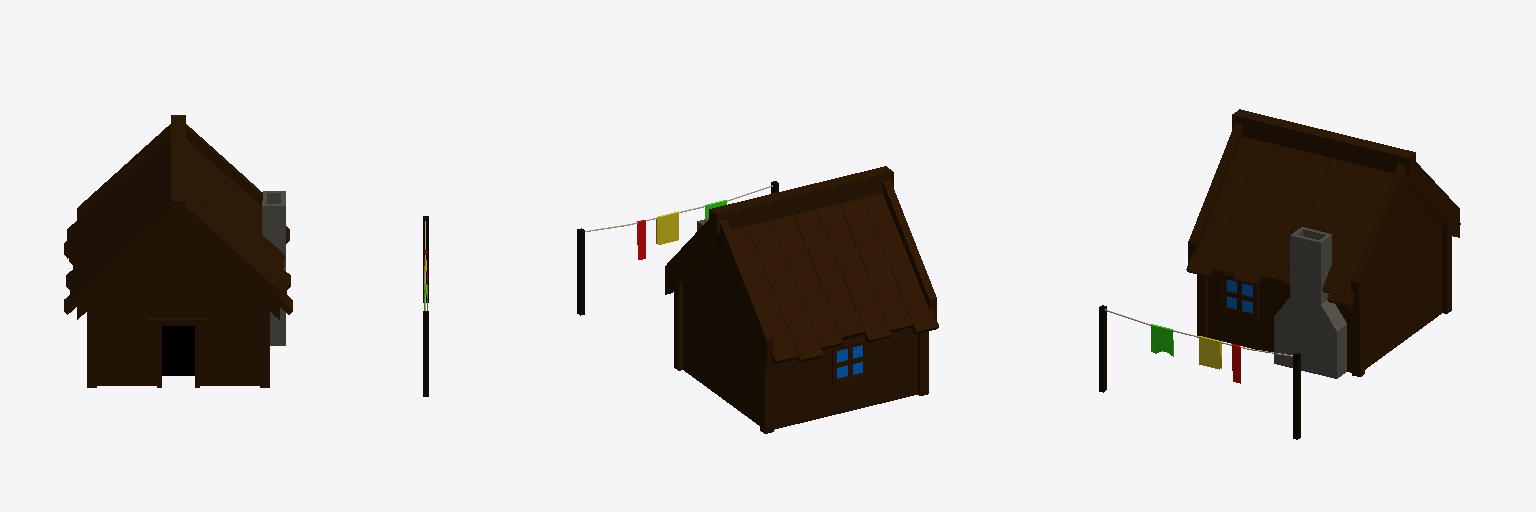
Rendered from house.obj.
3 views of the same model, side by side, from view 1: azimuth 30°, elevation 25°; view 2: azimuth 150°, elevation 25°; view 3: azimuth 270°, elevation 25° (orthographic).
Visible parts, largest first — view 1: casa, varal; view 2: casa, varal; view 3: casa, varal.
Part boxes in pixels (x1,y1,x2,y2): casa: (64,115,292,387); varal: (423,216,428,396); casa: (665,166,938,433); varal: (577,181,778,315); casa: (1186,109,1460,378); varal: (1099,305,1300,439).
Bounding box in the file's own units: 9.06 × 4.53 × 7.81.